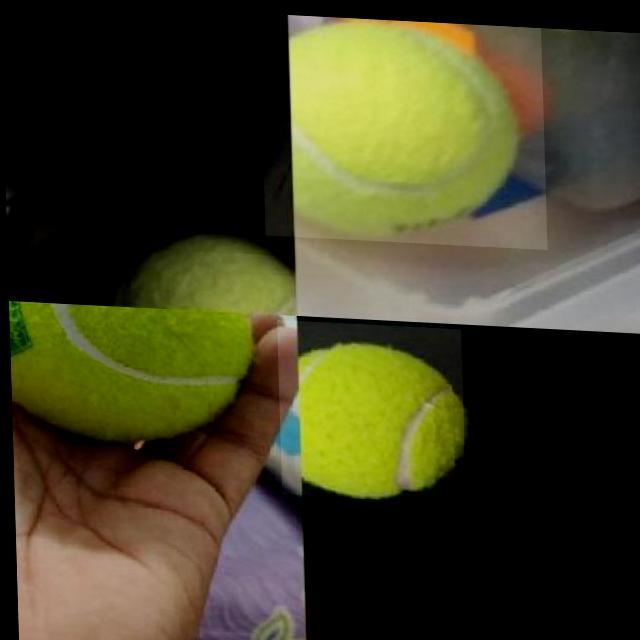-: (259, 11, 546, 244), (275, 317, 463, 498)
